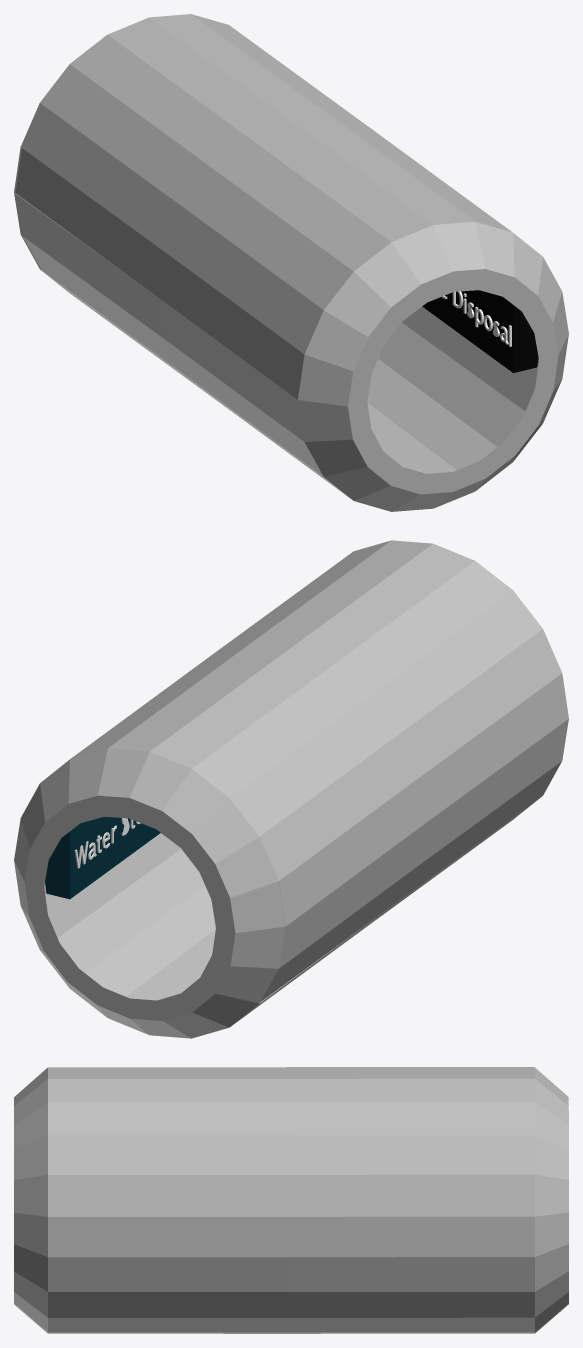
Rendered from food and water and disposal and food maker.fbx.
3 views of the same model, one above another, from view 1: azimuth 30°, elevation 25°; view 2: azimuth 150°, elevation 25°; view 3: azimuth 270°, elevation 25° (orthographic). The views are drawn at different scales.
Parts seen in each view (by area): view 1: pCylinder35, pCube4, typeMesh5; view 2: pCylinder35, pCube3, typeMesh4; view 3: pCylinder35.
Part boxes in pixels (x1=…): pCylinder35: x1=14, y1=14, x2=568, y2=511; pCube4: x1=422, y1=290, x2=538, y2=372; typeMesh5: x1=442, y1=291, x2=511, y2=346; pCylinder35: x1=14, y1=540, x2=568, y2=1038; pCube3: x1=45, y1=816, x2=160, y2=899; typeMesh4: x1=74, y1=818, x2=140, y2=868; pCylinder35: x1=14, y1=1067, x2=568, y2=1333.
Bounding box in the file's own units: 4.07 × 4.06 × 8.4.
